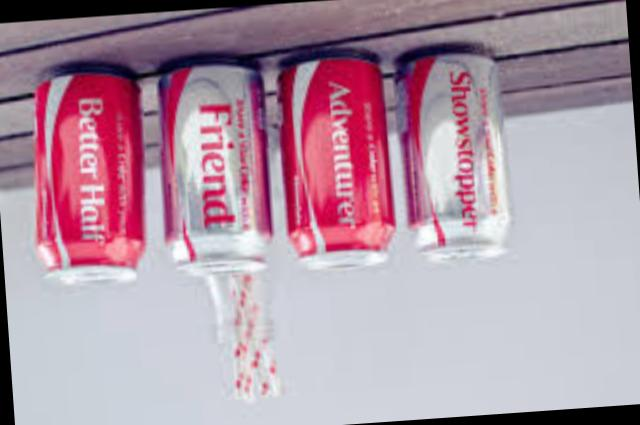metal: (277, 52, 395, 269), (158, 61, 271, 274), (36, 67, 145, 283), (400, 51, 510, 261)
